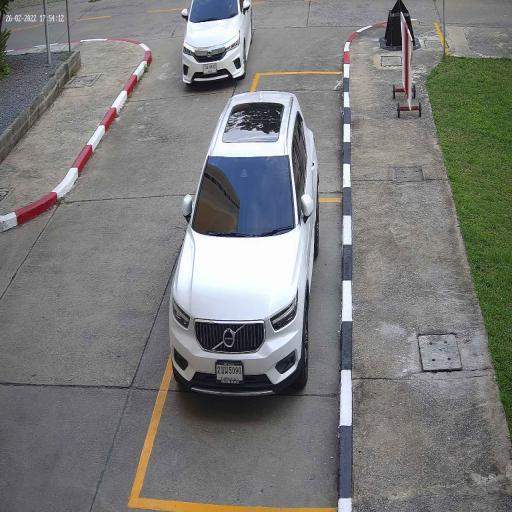car: (169, 89, 321, 400), (181, 0, 254, 87)
